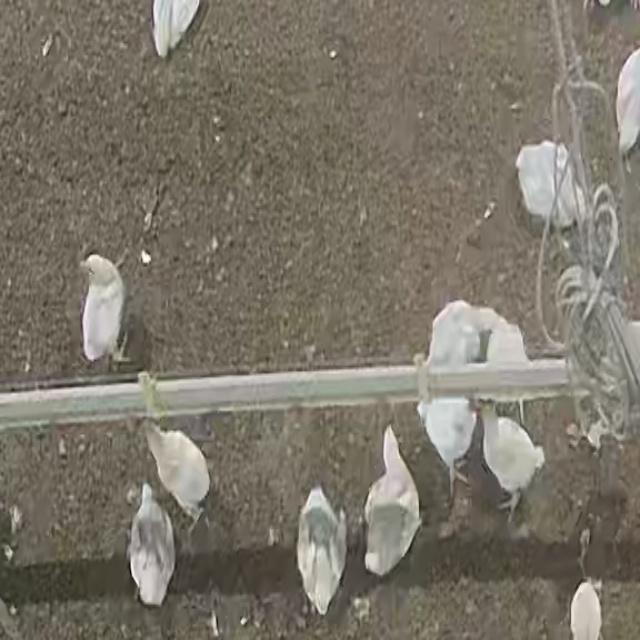chicken: (363, 427, 421, 580), (476, 403, 545, 525), (122, 485, 178, 611), (296, 484, 346, 615), (515, 142, 588, 230), (141, 422, 209, 514), (80, 256, 128, 362), (410, 401, 475, 468), (424, 306, 488, 367), (610, 45, 640, 152), (146, 0, 201, 56), (479, 310, 530, 367), (568, 581, 604, 640)
